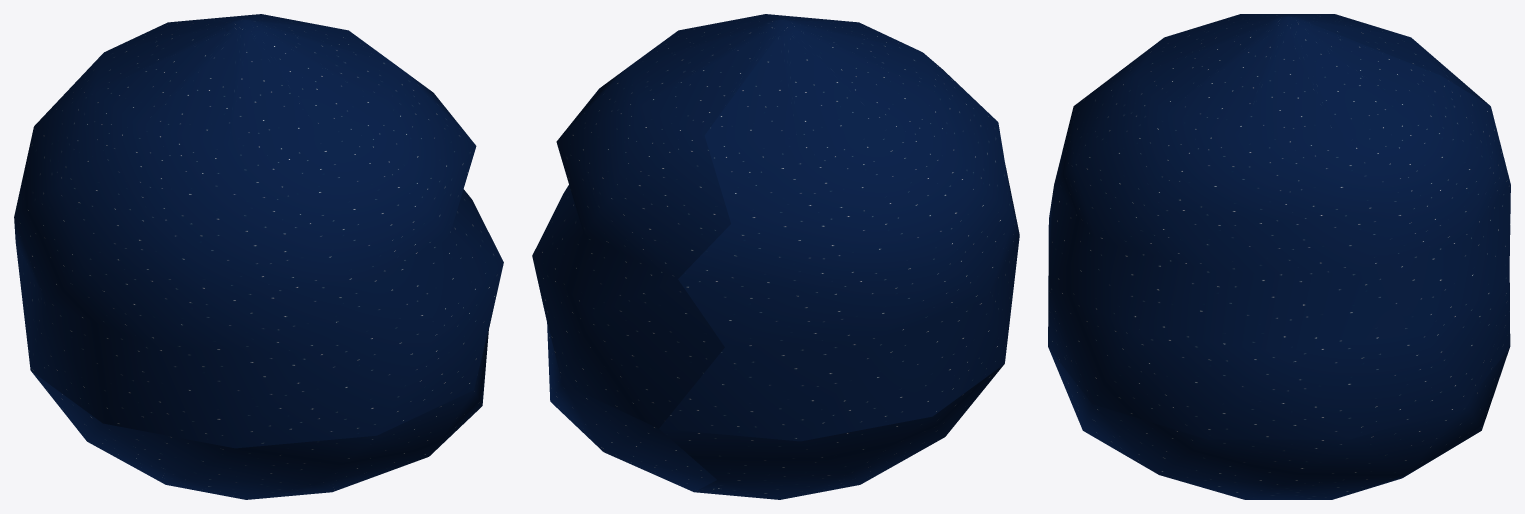
Rendered from rainbow_course_L.dae.
3 views of the same model, side by side, from view 1: azimuth 30°, elevation 25°; view 2: azimuth 150°, elevation 25°; view 3: azimuth 270°, elevation 25° (orthographic).
Parts seen in each view (by area): view 1: n5b7; view 2: n5b7; view 3: n5b7.
Part boxes in pixels (<box>): n5b7: <box>14,14,503,499</box>; n5b7: <box>532,14,1019,499</box>; n5b7: <box>1048,14,1510,499</box>.
Size of the model in its own units: 258659 by 270450 by 247270.
